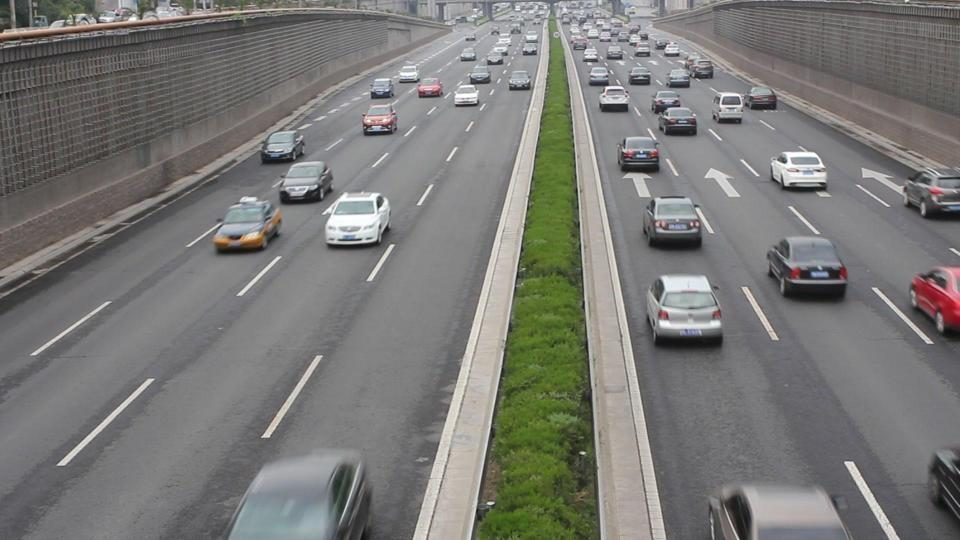car: (225, 447, 372, 538), (706, 481, 852, 540), (644, 272, 724, 345), (765, 235, 849, 300), (212, 198, 283, 254), (324, 191, 391, 247), (908, 264, 960, 335), (643, 195, 703, 249), (904, 168, 960, 218), (927, 443, 960, 523), (278, 160, 334, 204), (769, 149, 829, 190), (617, 135, 660, 174), (261, 130, 307, 162), (658, 106, 698, 136), (361, 105, 399, 135), (712, 92, 744, 124), (746, 85, 778, 111), (599, 85, 630, 111), (651, 89, 681, 114), (453, 84, 479, 107), (370, 77, 395, 99), (417, 78, 444, 98), (507, 69, 532, 89), (398, 64, 420, 83), (589, 67, 610, 86), (629, 67, 651, 85), (470, 66, 492, 84), (459, 49, 477, 62)
